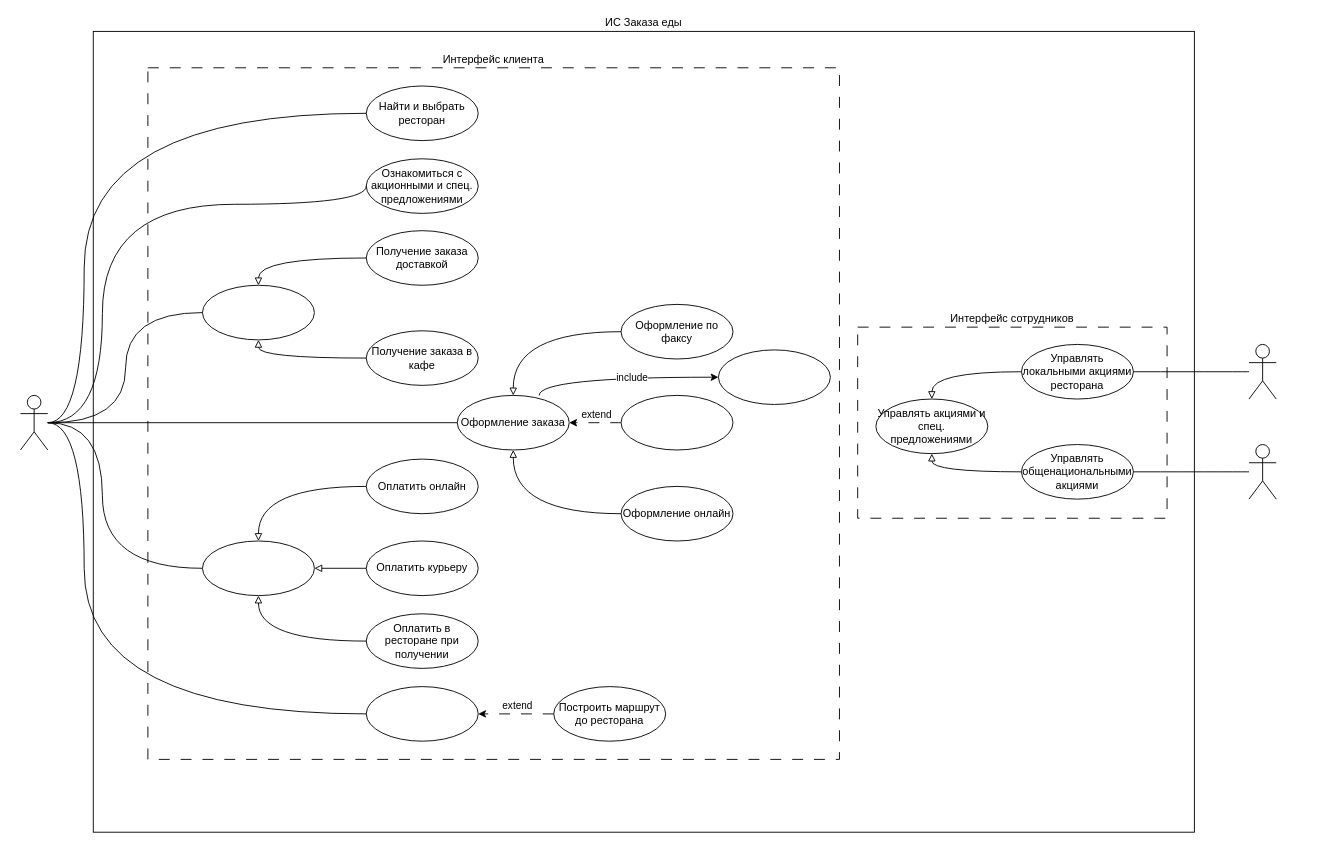
Image size: 1331x848. Some labels were removed from this diagram. The centre of each missing label's shape, as x and y in pixels:
"Владелец ресторана по франшизе" goes at point 1262,371.
"Выполнить оплату заказа" goes at point 258,568.
"Клиент" goes at point 34,422.
"Обработать заказ" goes at point 774,376.
"Получение заказа" goes at point 258,312.
"Просмотр пробок и дорожной ситуации" goes at point 421,713.
"Просмотреть время получения заказа в рестране" goes at point 676,422.
"Сотрудник головной компании" goes at point 1262,471.
